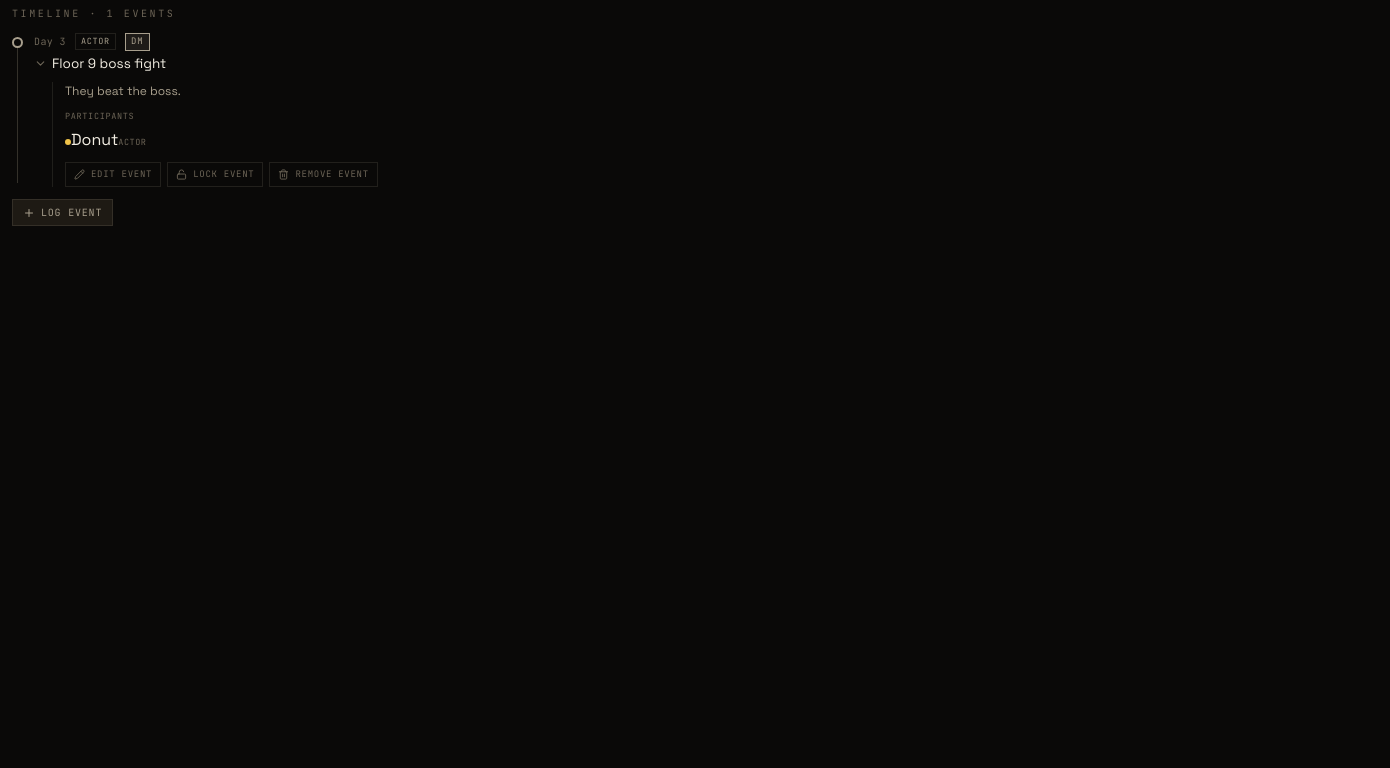
Scenario: TimelinePanel › edits an event: prefilled form, submits, and closes on success
Click the button "Edit event" at (113, 174), box [65,162,161,187]
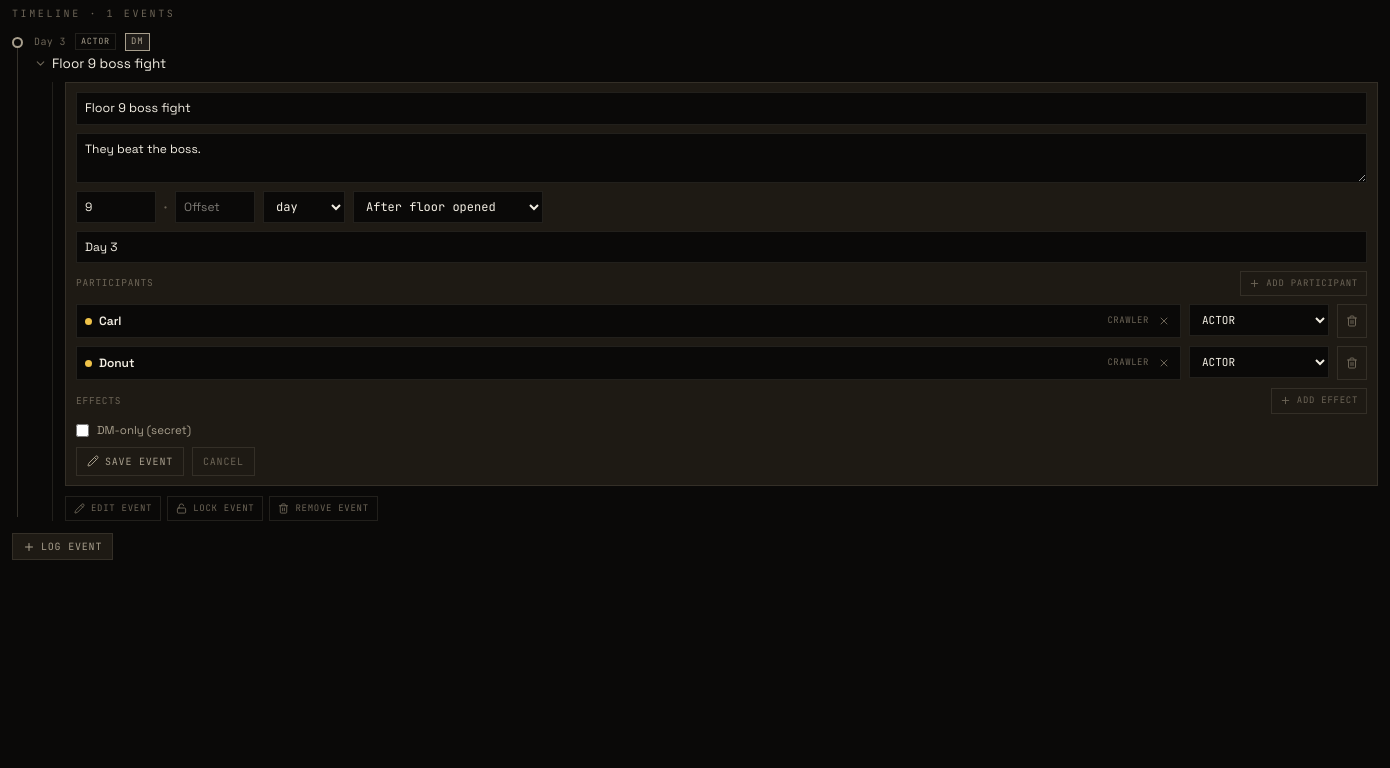
Expected: the field named "Event title" holds "Floor 9 boss fight"
Expected: the number field named "Floor" holds "9", [76,190,156,222]
Expected: the field named "Time label" holds "Day 3", [76,230,1367,262]
Replace the text in the field named "Event title" with "Revised title" at (722, 108), box [76,92,1367,125]
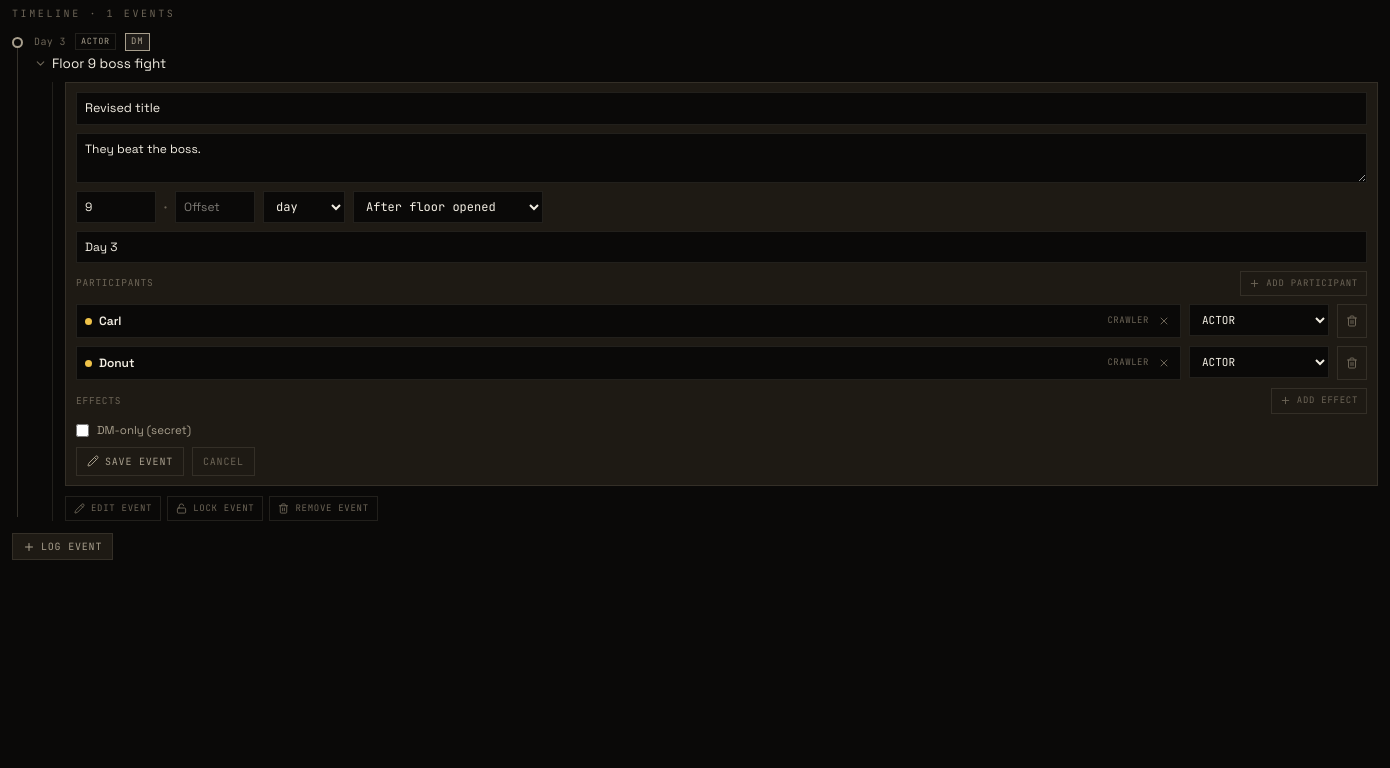
Submit the form named "Event title", box [76,92,1367,439]
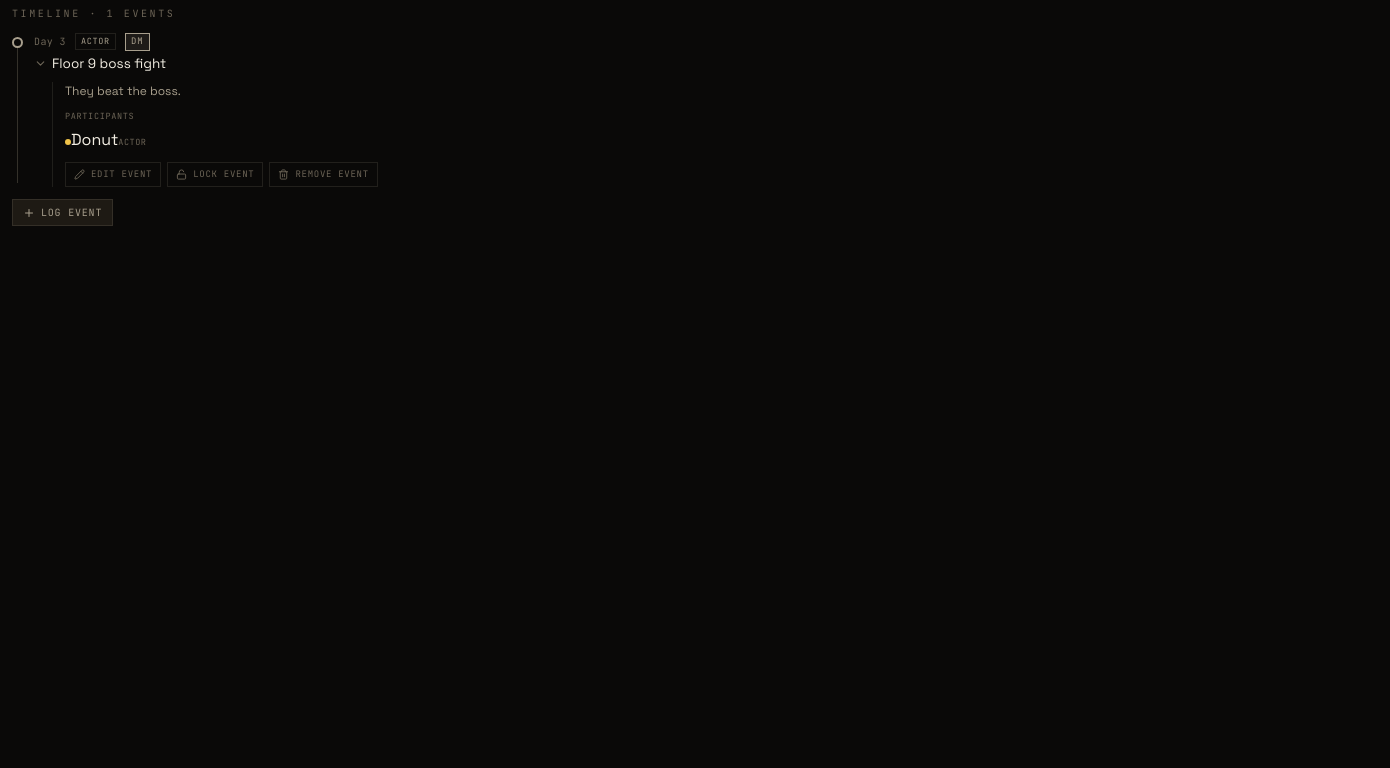
Expected: the field labelled "Event title" is gone
